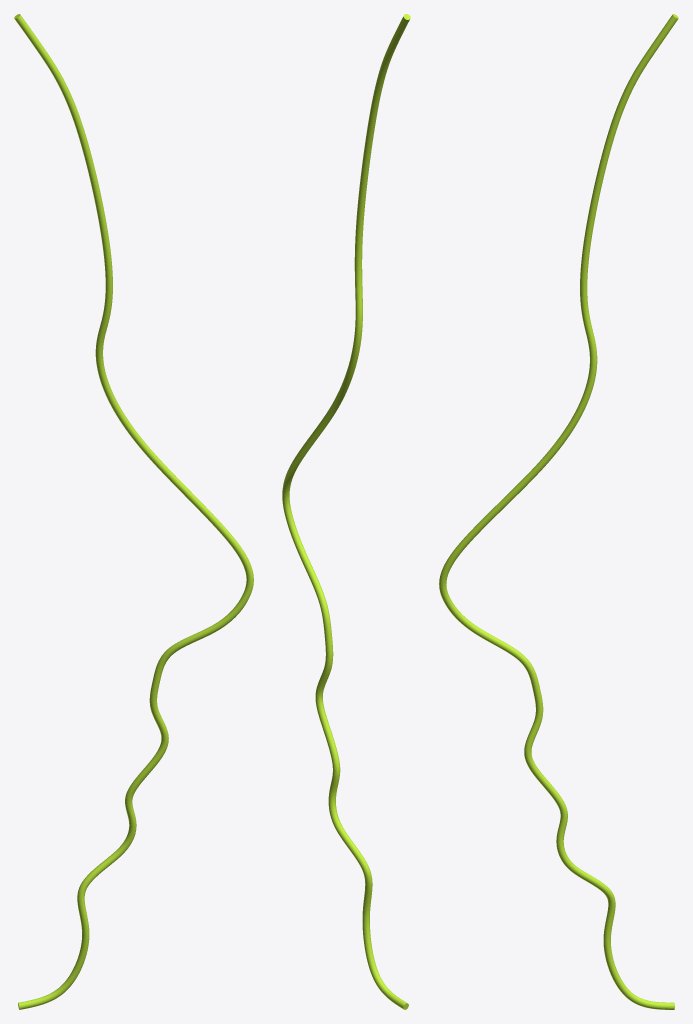
Rendered from faces32 - lineprofile.glb.
The picture shows the model from 3 angles, left to right: view 1: azimuth 90°, elevation 25°; view 2: azimuth 210°, elevation 25°; view 3: azimuth 270°, elevation 25°; orthographic projection.
Parts seen in each view (by area): view 1: Tube; view 2: Tube; view 3: Tube.
Boxes of the visible parts, box(x1,y1,x2,y2) form: Tube: box(14, 14, 253, 1009); Tube: box(282, 14, 410, 1009); Tube: box(439, 14, 678, 1009).
Size of the model in its own units: 0.0418 by 1.65 by 0.3593.
